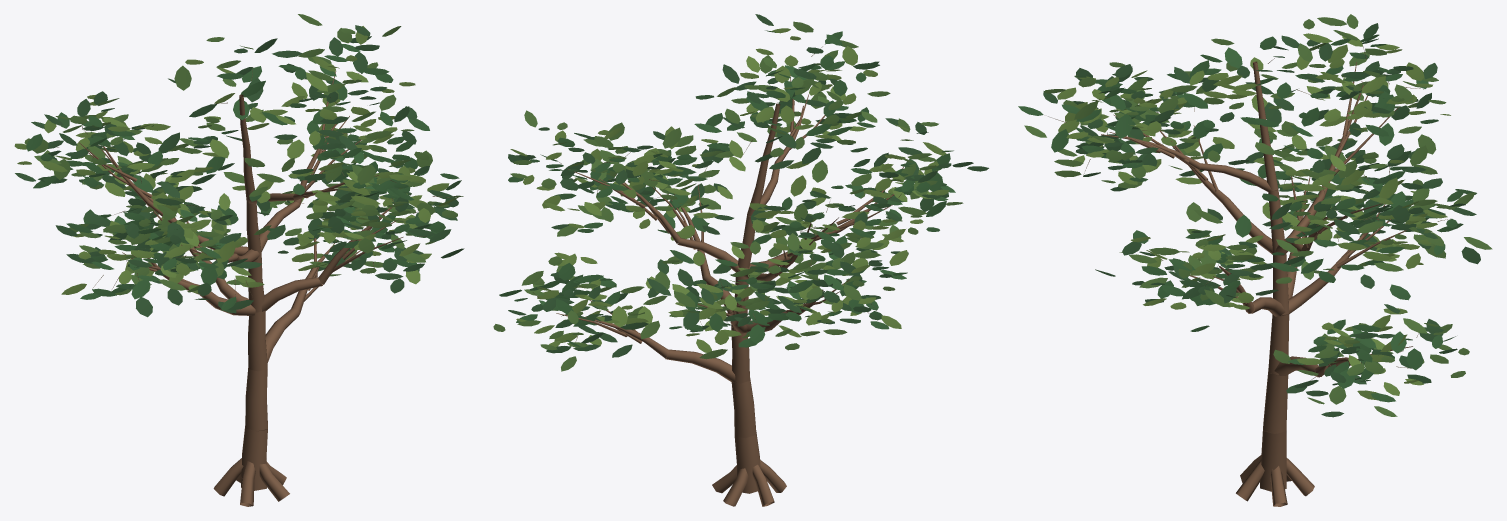
Rendered from Arbousier_1_Low.fbx.
The picture shows the model from 3 angles, left to right: view 1: azimuth 30°, elevation 25°; view 2: azimuth 150°, elevation 25°; view 3: azimuth 270°, elevation 25°; orthographic projection. The views are drawn at different scales.
Visible parts, largest first — view 1: Arbousier_1_Low; view 2: Arbousier_1_Low; view 3: Arbousier_1_Low.
Part boxes in pixels (x1=…): Arbousier_1_Low: x1=14, y1=14, x2=464, y2=506; Arbousier_1_Low: x1=493, y1=14, x2=988, y2=506; Arbousier_1_Low: x1=1018, y1=14, x2=1492, y2=506.
Size of the model in its own units: 528 by 560 by 522.
